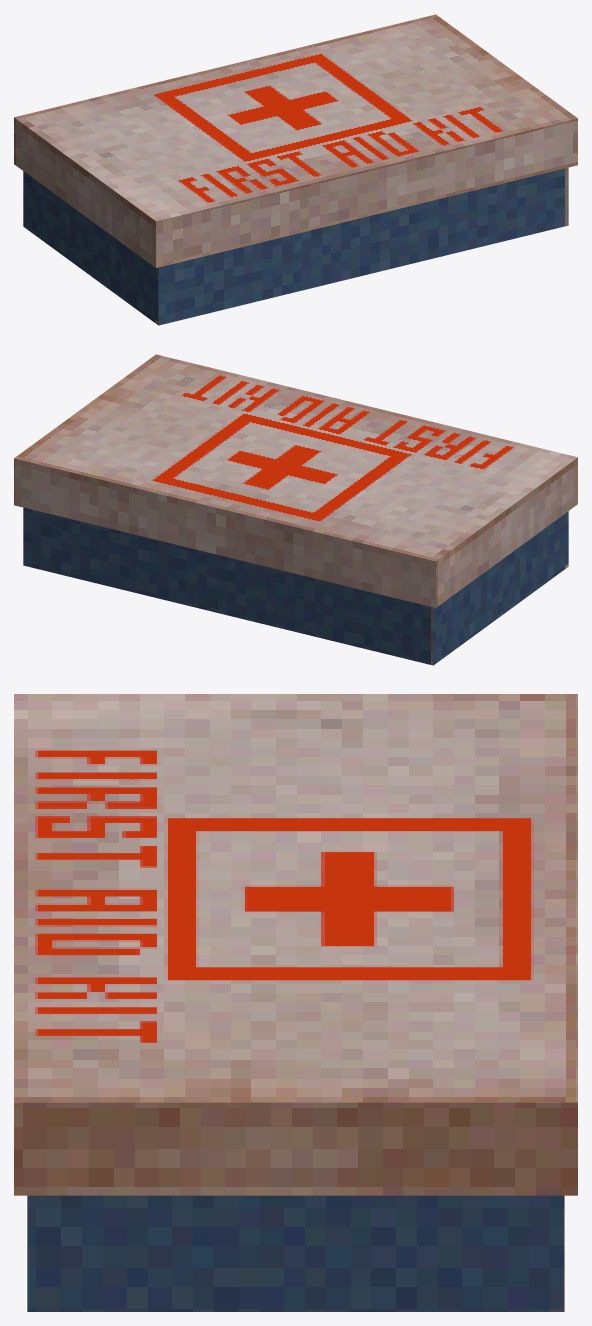
File: Med_1.glb
The picture shows the model from 3 angles, top to bottom: view 1: azimuth 30°, elevation 25°; view 2: azimuth 150°, elevation 25°; view 3: azimuth 270°, elevation 25°; orthographic projection. The views are drawn at different scales.
Parts seen in each view (by area): view 1: Med_1; view 2: Med_1; view 3: Med_1.
Boxes of the visible parts, bbox=[...] form: Med_1: bbox=[14, 14, 577, 325]; Med_1: bbox=[14, 354, 577, 665]; Med_1: bbox=[14, 694, 577, 1311].
Size of the model in its own units: 18 by 4.41 by 10.5.
Materials: 1 (1 with a texture image).
